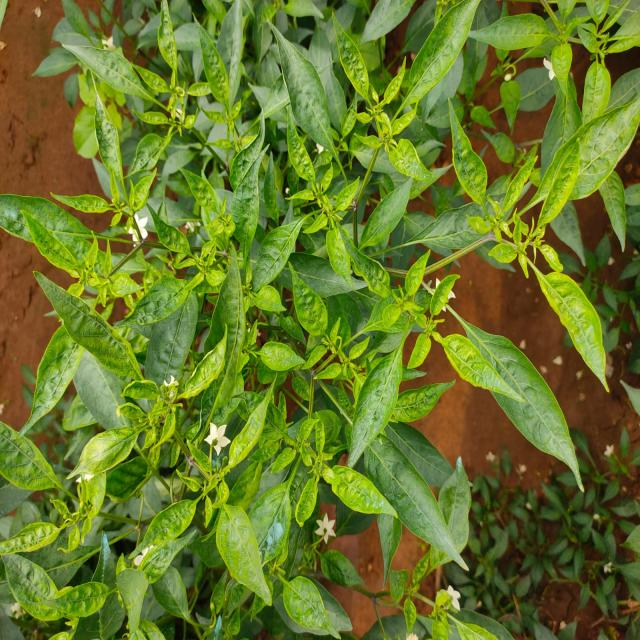Moko: (73, 24, 240, 204), (445, 146, 586, 348), (139, 194, 277, 323), (0, 203, 134, 322), (258, 399, 378, 531), (144, 415, 268, 542), (280, 270, 374, 434), (344, 30, 421, 228), (350, 246, 465, 371), (284, 126, 365, 294), (0, 456, 105, 560), (107, 360, 195, 477), (15, 568, 127, 632)
